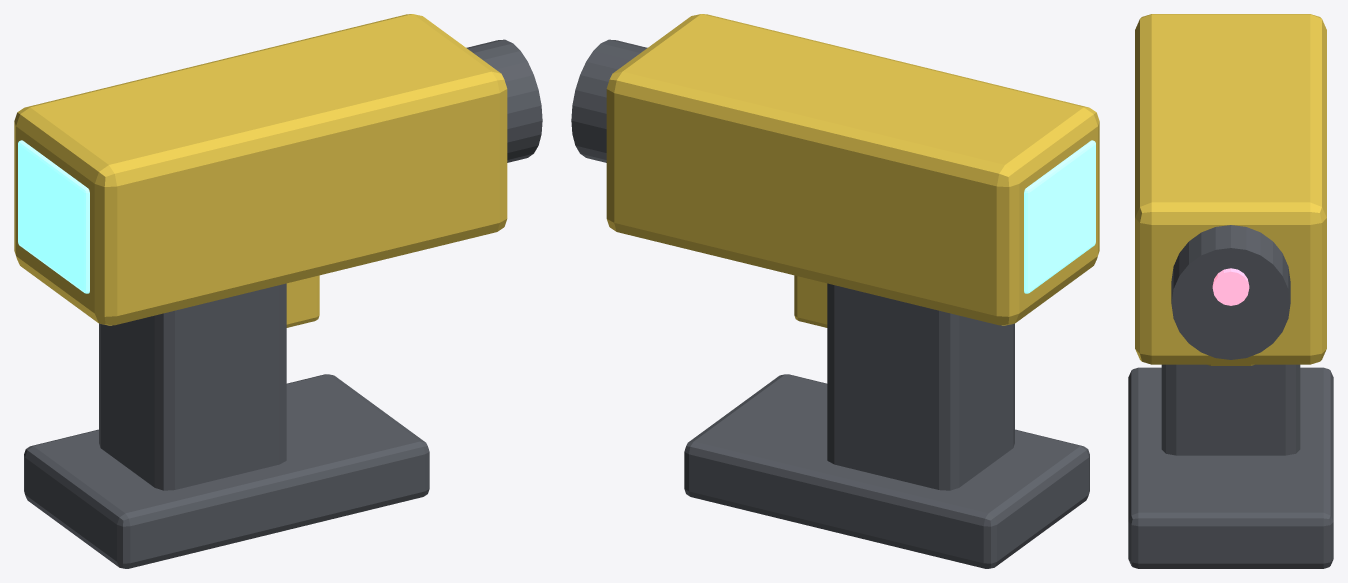
Rendered from SM_Thermometer.fbx.
3 views of the same model, side by side, from view 1: azimuth 30°, elevation 25°; view 2: azimuth 150°, elevation 25°; view 3: azimuth 270°, elevation 25° (orthographic).
Parts seen in each view (by area): view 1: SM_Thermometer; view 2: SM_Thermometer; view 3: SM_Thermometer.
Boxes of the visible parts, x1,y1,x2,y2 form: SM_Thermometer: (14, 14, 542, 568); SM_Thermometer: (571, 14, 1099, 568); SM_Thermometer: (1128, 14, 1333, 568).
Size of the model in its own units: 6.2 by 16.5 by 13.5.
